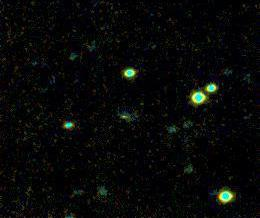star: (110, 103, 140, 133)
